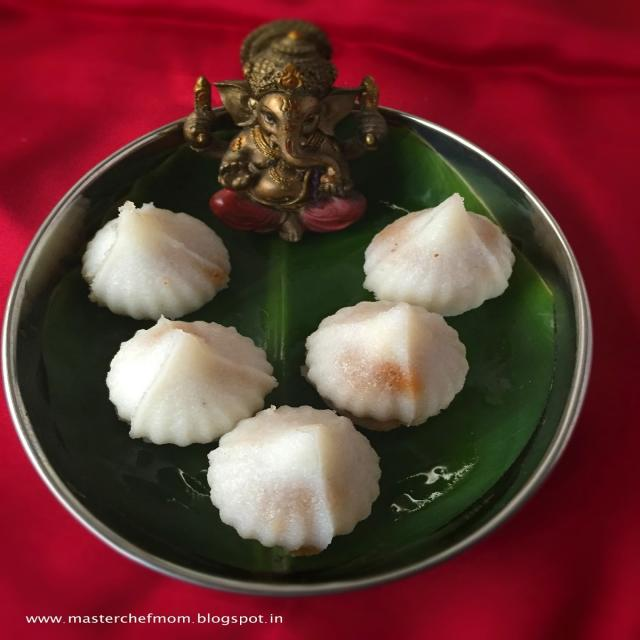poorna kolukattai: (68, 180, 534, 574)
